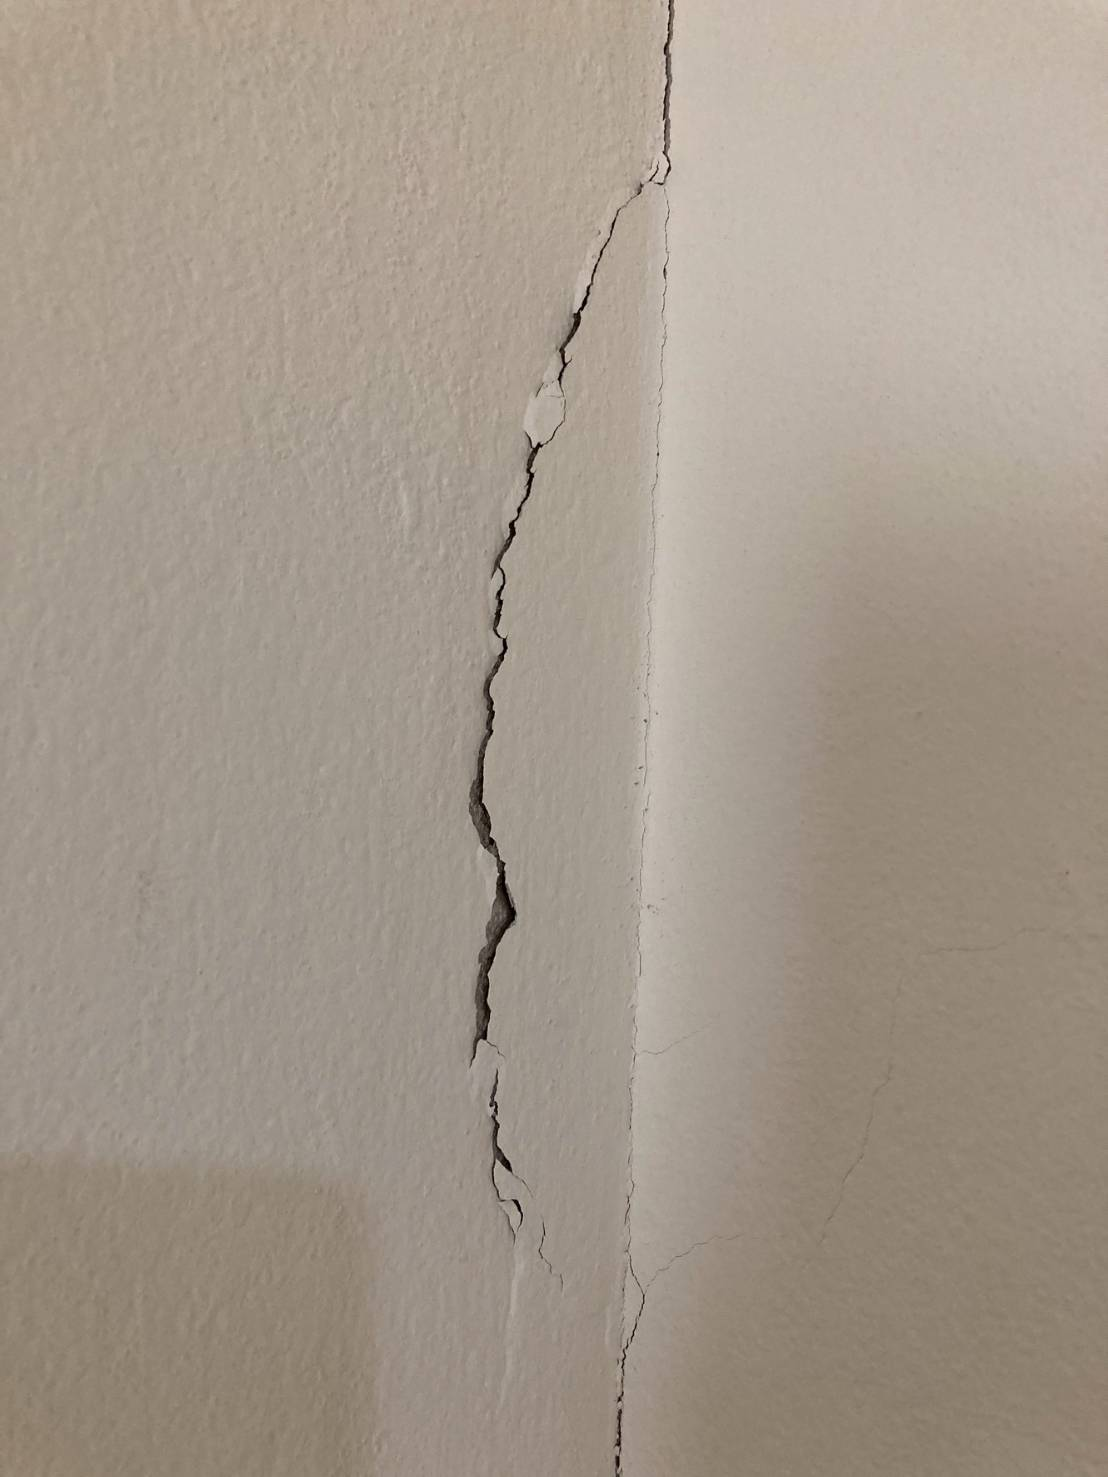Low: (421, 1, 754, 1446)
